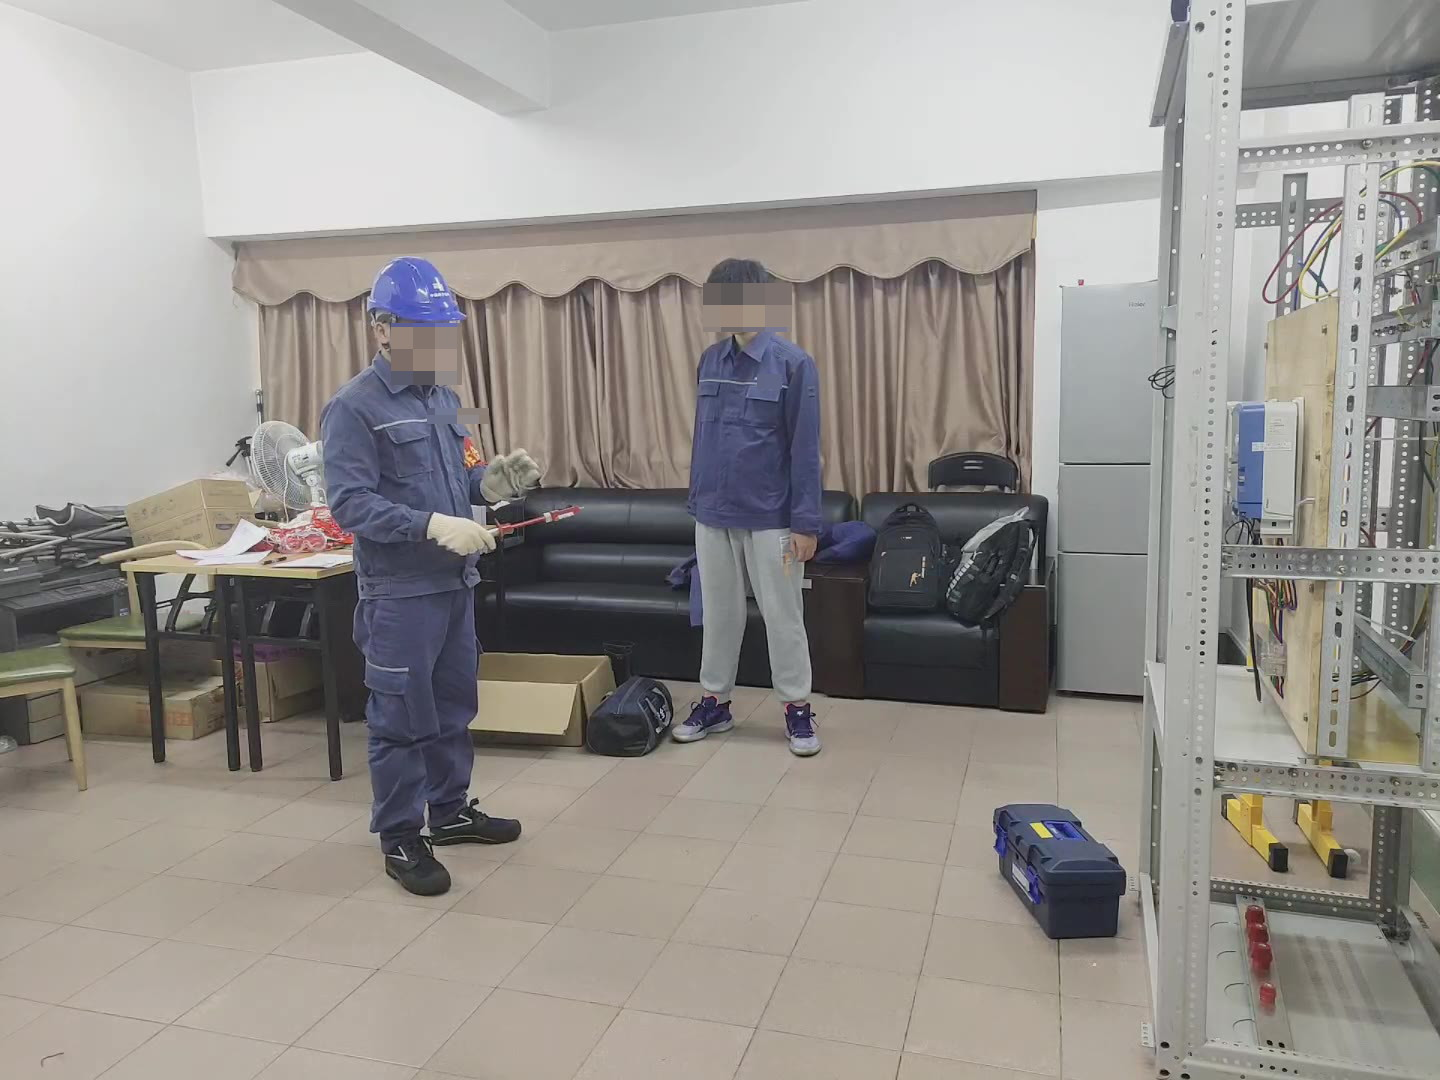badge: (456, 430, 493, 479)
downcloth: (692, 519, 813, 710)
downsuit: (353, 603, 490, 834)
halt: (362, 255, 469, 369)
hand: (788, 535, 823, 561)
inear: (368, 306, 405, 368)
noear: (738, 284, 772, 335)
person: (310, 251, 521, 887), (681, 252, 836, 693)
testrod: (478, 498, 586, 541)
unhalt: (704, 256, 781, 341)
upsuit: (315, 360, 494, 591), (685, 329, 829, 522)
wglove: (421, 507, 497, 563), (477, 448, 545, 503)
